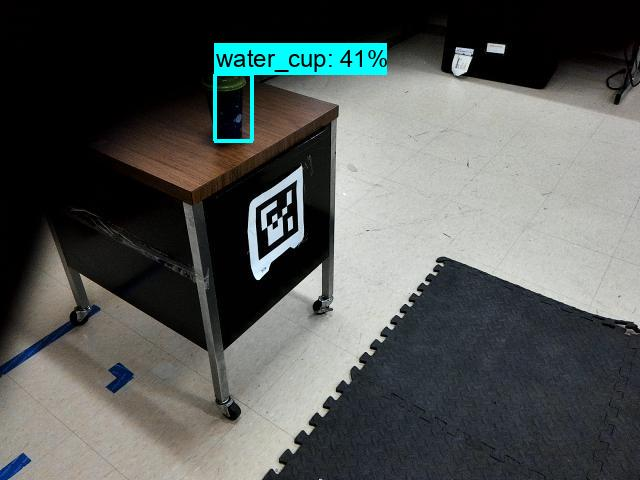water_cup: (206, 77, 247, 139)
